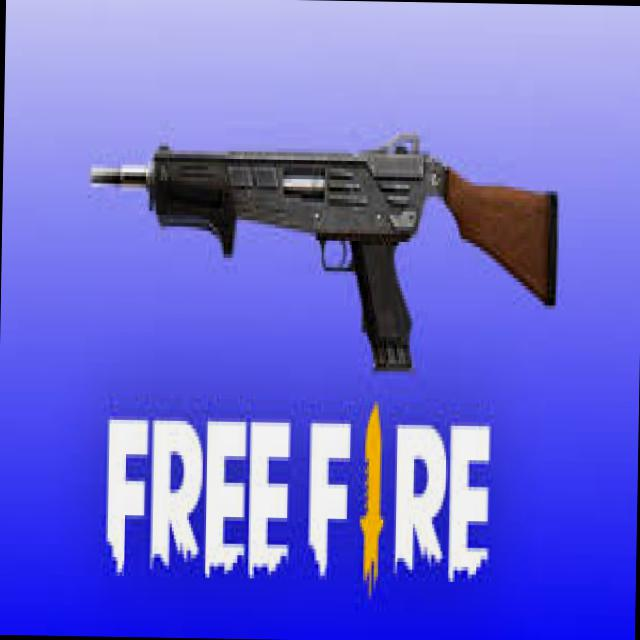long weapon: (80, 102, 573, 377)
